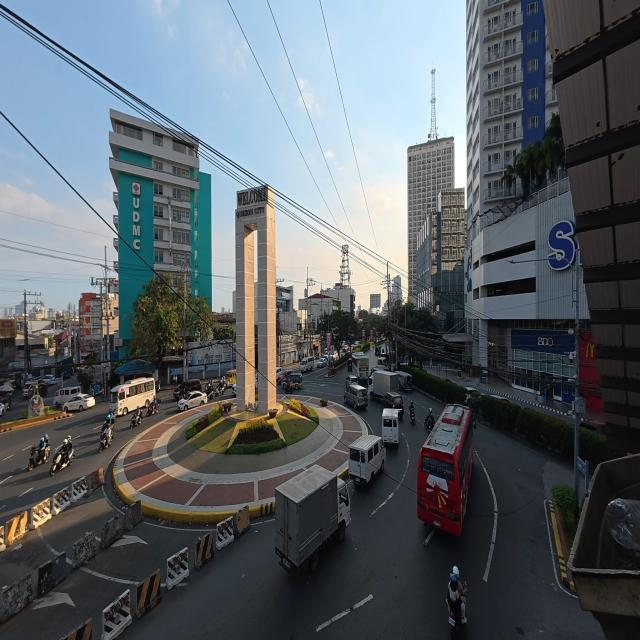bus: (418, 405, 473, 535), (110, 378, 155, 415), (351, 353, 369, 387)
car: (178, 391, 207, 411), (174, 379, 201, 400), (383, 392, 404, 419), (63, 394, 95, 411), (580, 420, 606, 434), (283, 373, 303, 389), (277, 370, 293, 385), (465, 387, 480, 402), (490, 394, 512, 403), (346, 375, 357, 388), (317, 357, 327, 368), (42, 374, 54, 383), (0, 403, 6, 415), (62, 372, 71, 380), (276, 367, 282, 378), (232, 383, 236, 396), (375, 347, 380, 355)
motorcycle: (446, 598, 463, 638), (50, 448, 73, 476), (28, 445, 49, 471), (446, 599, 456, 638), (99, 429, 113, 452), (214, 383, 227, 396), (102, 418, 115, 430), (146, 403, 158, 416), (130, 414, 141, 428), (204, 382, 214, 396), (425, 415, 434, 430), (410, 410, 415, 424)
trucks: (275, 465, 350, 571), (369, 370, 399, 399)
vans: (349, 435, 386, 483), (382, 409, 399, 444), (345, 384, 368, 409), (54, 386, 81, 407), (23, 381, 38, 397), (300, 356, 314, 372)
